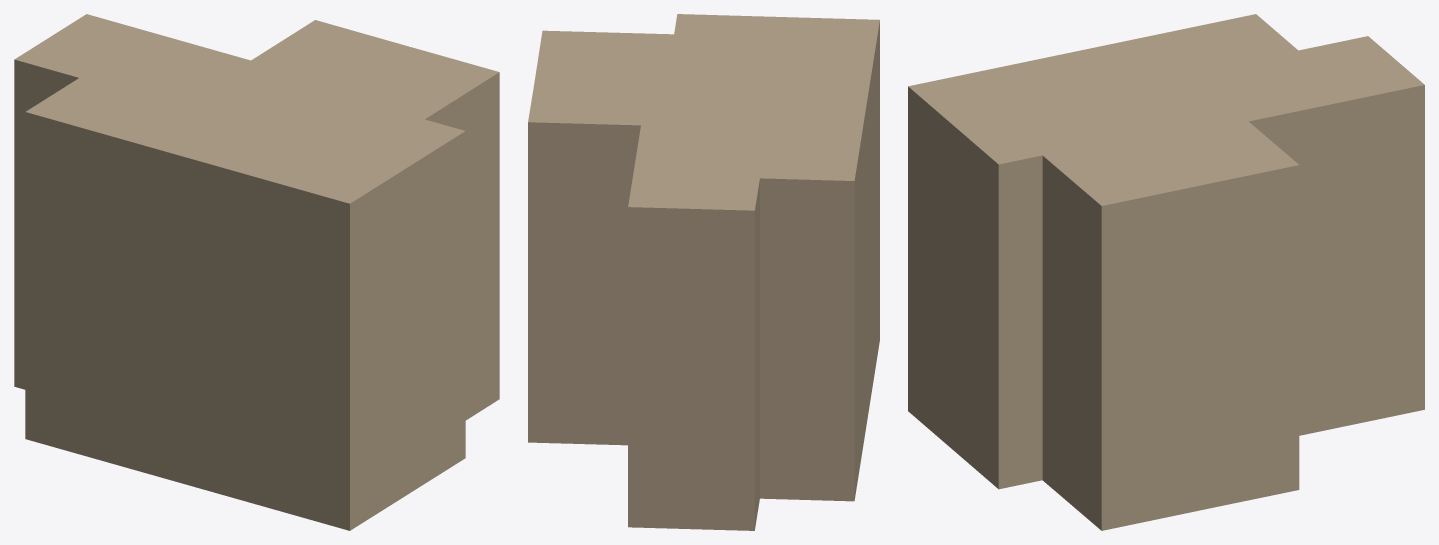
File: bld_106415434.dae
The picture shows the model from 3 angles, left to right: view 1: azimuth 30°, elevation 25°; view 2: azimuth 150°, elevation 25°; view 3: azimuth 270°, elevation 25°; orthographic projection. The views are drawn at different scales.
Parts seen in each view (by area): view 1: bld_106415434; view 2: bld_106415434; view 3: bld_106415434.
Boxes of the visible parts, x1,y1,x2,y2 form: bld_106415434: (14, 14, 499, 530); bld_106415434: (528, 14, 879, 530); bld_106415434: (908, 14, 1424, 530).
Bounding box in the file's own units: 10.15 × 11.54 × 8.
